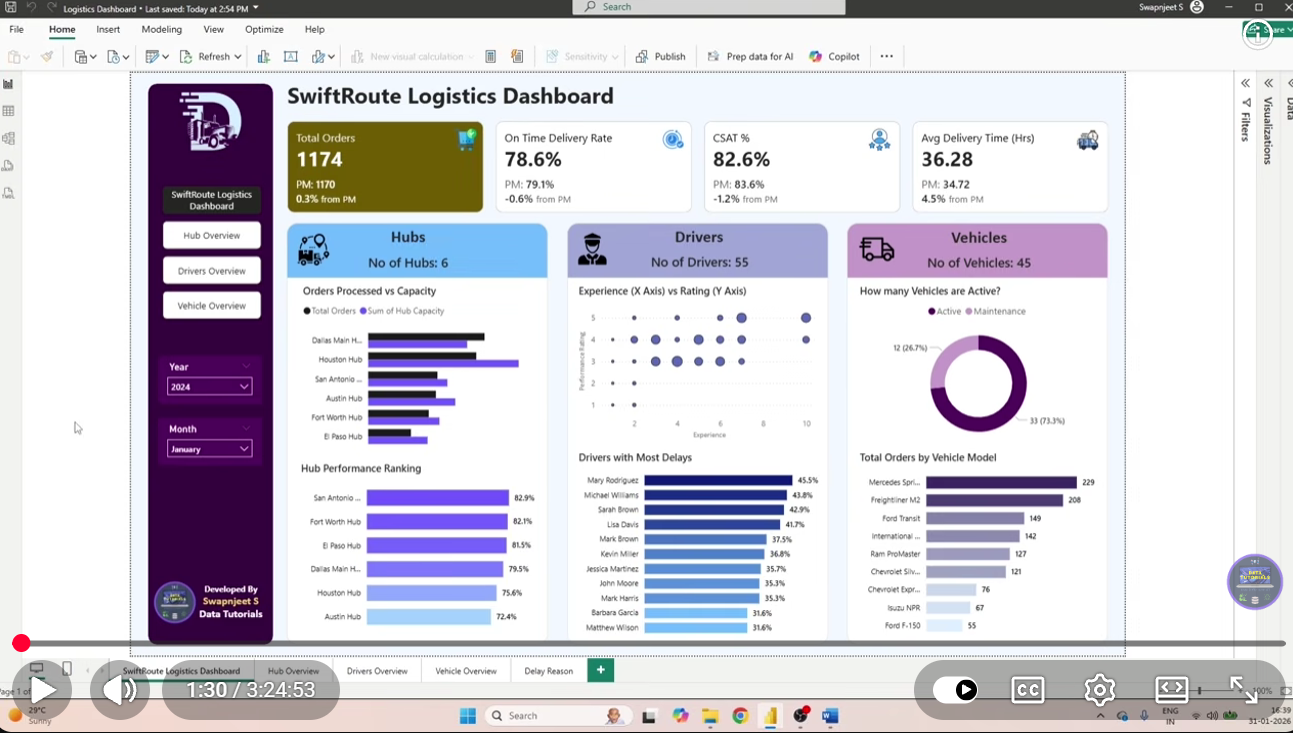

Layout of this report page (visuals, bound fields, positions):
{"tool":"powerbi","page":{"name":"Swift Route Logistics Dashboard","canvas":[1932,1111],"ordinal":0},"visuals":[{"type":"textbox","box":[282.4,25.7,727.4,57],"z":0},{"type":"cardVisual","fields":{"Data":["Orders.Total Orders","Orders.On Time Delivered Rate","Orders.CAST %","Orders.Avg Delivery Time (Hrs)"]},"box":[283.9,81.8,1635.3,161.3],"z":1000},{"type":"cardVisual","fields":{"Data":["Orders.Year Month Title"]},"box":[1424.1,25,465.6,45.4],"z":2000},{"type":"image","box":[1303.7,288.5,54.5,63.6],"z":3000},{"type":"shape","box":[815.9,260.5,541.7,809.1],"z":4000},{"type":"shape","box":[815.9,260.5,541.7,96],"z":5000},{"type":"cardVisual","fields":{"Data":["Drivers.No of Drivers"]},"box":[887.1,302.4,370.8,45.6],"z":6000},{"type":"textbox","box":[881.4,268.1,379.4,42.8],"z":7000},{"type":"scatterChart","title":"Experience (X Axis) vs Rating (Y Axis)","fields":{"Size":["Sum(Drivers.Experience Years)"],"X":["Drivers.Experience Years"],"Y":["Drivers.Performance Rating"]},"box":[815.9,384,539.4,299.4],"z":8000},{"type":"barChart","title":"Drivers with Most Delays","fields":{"Category":["Orders.Driver Name"],"Y":["Orders.Delayed Delivery Rate"]},"box":[815.9,683.4,541.7,368],"z":9000},{"type":"image","box":[1272.2,259.6,82.7,91.3],"z":10000},{"type":"shape","box":[281.1,260.5,509.7,809.1],"z":11000},{"type":"shape","box":[281.1,260.5,509.7,96],"z":12000},{"type":"cardVisual","fields":{"Data":["Hubs.No of Hubs"]},"box":[373.7,310.9,271,45.6],"z":13000},{"type":"clusteredBarChart","title":" Orders Processed vs Capacity","fields":{"Category":["Hubs.HubName"],"Y":["Sum(Hubs.Hub Capacity)","Orders.Total Orders"]},"box":[292.5,356.5,489.1,345.1],"z":14000},{"type":"barChart","title":"Hub Performance Ranking","fields":{"Category":["Hubs.HubName"],"Y":["Orders.On Time Delivered Rate"]},"box":[292.5,701.6,489.1,358.8],"z":15000},{"type":"textbox","box":[345.1,271,322.3,45.6],"z":16000},{"type":"image","box":[696,262.4,85.6,91.3],"z":17000},{"type":"shape","box":[1398.7,260.5,512,809.1],"z":18000},{"type":"shape","box":[1398.7,260.5,512,93.7],"z":19000},{"type":"cardVisual","fields":{"Data":["Vehicles.No of Vehicles"]},"box":[1508.9,305.2,290.9,42.8],"z":20000},{"type":"textbox","box":[1508.9,265.3,290.9,48.5],"z":21000},{"type":"donutChart","title":"How many vehicles are active","fields":{"Category":["Vehicles.Vehicle Status"],"Y":["CountNonNull(Vehicles.Vehicle ID)"]},"box":[1423.9,384,468.5,290.3],"z":22000},{"type":"barChart","fields":{"Category":["Vehicles.Vehicle Model"],"Y":["Orders.Total Orders"]},"box":[1428.4,687.9,464,363.4],"z":23000},{"type":"image","box":[1811.3,259.6,91.3,97],"z":24000},{"type":"shape","box":[22.7,25.5,221.1,1026.1],"z":25000},{"type":"slicer","fields":{"Values":["Date Table.Year"]},"box":[52.6,612.5,161.6,90.7],"z":26000},{"type":"slicer","fields":{"Values":["Date Table.Month"]},"box":[52.2,704.1,161.6,73.7],"z":27000},{"type":"pageNavigator","box":[31.8,302.1,204.4,270.3],"z":28000},{"type":"image","box":[22.9,25.1,221.7,235.4],"z":29000}]}

Visuals, with their boxes on the page's 1932x1111 design canvas (x1, y1, x2, y2). These are canvas units, not pixel positions in the 1293x733 screenshot, which may show the page scaled, cropped or inside an application window:
textbox: (282,26,1010,83)
cardVisual - Orders.Total Orders x Orders.On Time Delivered Rate: (284,82,1919,243)
cardVisual - Orders.Year Month Title: (1424,25,1890,70)
image: (1304,288,1358,352)
shape: (816,260,1358,1070)
shape: (816,260,1358,356)
cardVisual - Drivers.No of Drivers: (887,302,1258,348)
textbox: (881,268,1261,311)
"Experience (X Axis) vs Rating (Y Axis)" scatterChart: (816,384,1355,683)
"Drivers with Most Delays" barChart: (816,683,1358,1051)
image: (1272,260,1355,351)
shape: (281,260,791,1070)
shape: (281,260,791,356)
cardVisual - Hubs.No of Hubs: (374,311,645,356)
" Orders Processed vs Capacity" clusteredBarChart: (292,356,782,702)
"Hub Performance Ranking" barChart: (292,702,782,1060)
textbox: (345,271,667,317)
image: (696,262,782,354)
shape: (1399,260,1911,1070)
shape: (1399,260,1911,354)
cardVisual - Vehicles.No of Vehicles: (1509,305,1800,348)
textbox: (1509,265,1800,314)
"How many vehicles are active" donutChart: (1424,384,1892,674)
barChart - Vehicles.Vehicle Model x Orders.Total Orders: (1428,688,1892,1051)
image: (1811,260,1903,357)
shape: (23,26,244,1052)
slicer - Date Table.Year: (53,612,214,703)
slicer - Date Table.Month: (52,704,214,778)
pageNavigator: (32,302,236,572)
image: (23,25,245,260)
